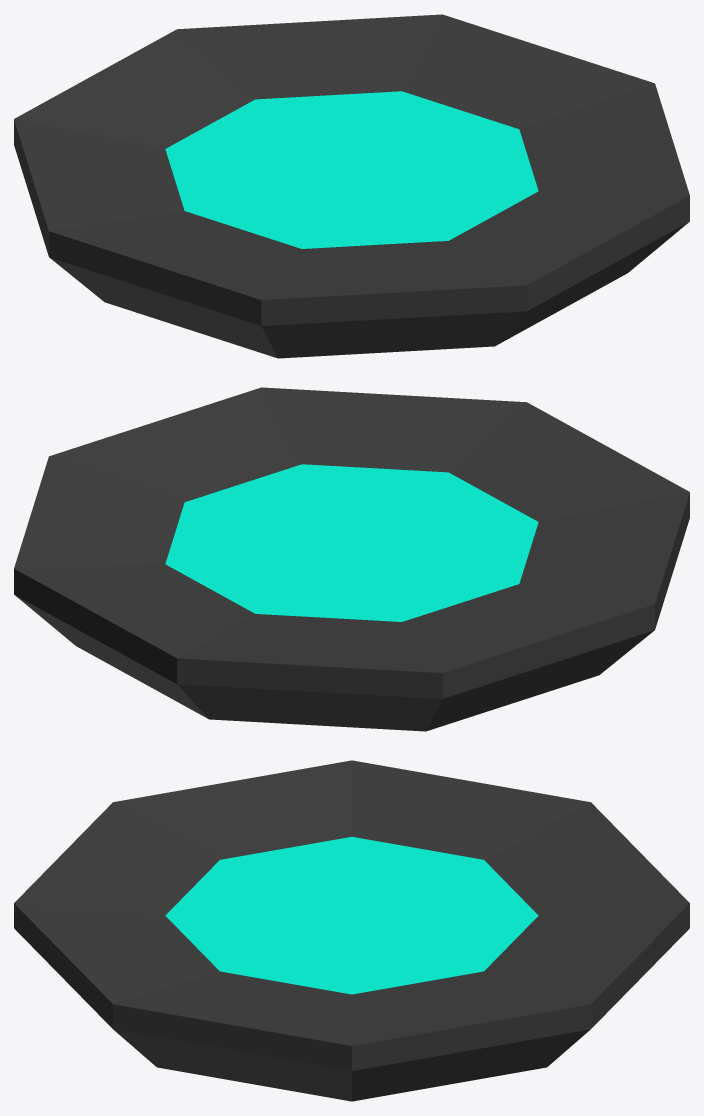
Rendered from Projector.fbx.
The picture shows the model from 3 angles, top to bottom: view 1: azimuth 30°, elevation 25°; view 2: azimuth 150°, elevation 25°; view 3: azimuth 270°, elevation 25°; orthographic projection. The views are drawn at different scales.
Visible parts, largest first — view 1: Projector; view 2: Projector; view 3: Projector.
Part boxes in pixels (<box>): Projector: <box>14,14,689,358</box>; Projector: <box>14,387,689,731</box>; Projector: <box>14,760,689,1101</box>.
Bounding box in the file's own units: 12.25 × 1.64 × 12.25.
